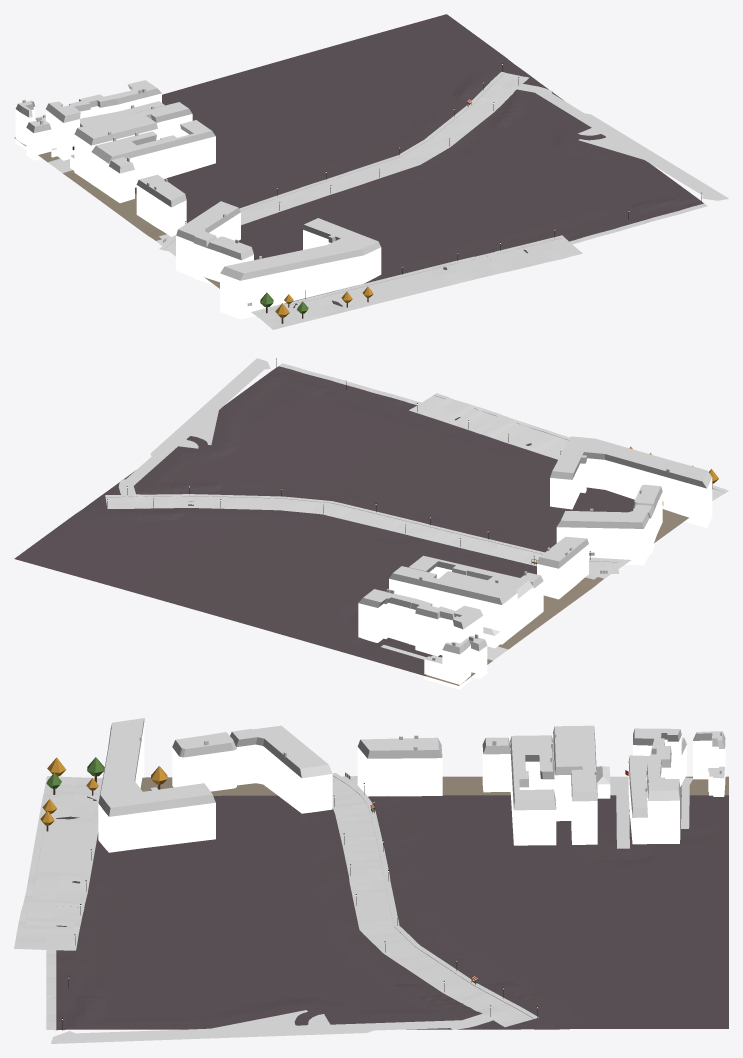
File: zone_J6.glb
3 renders of one model, top to bottom at view 1: azimuth 30°, elevation 25°; view 2: azimuth 150°, elevation 25°; view 3: azimuth 270°, elevation 25°, orthographic. The views are drawn at different scales.
Visible parts, largest first — view 1: zone_J6_terrain, zone_J6_batiments, zone_J6_sol_NOCOL, zone_J6_decor_NOCOL; view 2: zone_J6_terrain, zone_J6_batiments, zone_J6_sol_NOCOL; view 3: zone_J6_terrain, zone_J6_batiments, zone_J6_sol_NOCOL, zone_J6_decor_NOCOL.
Part boxes in pixels (x1=…): zone_J6_terrain: x1=14, y1=14, x2=707, y2=329; zone_J6_batiments: x1=15, y1=80, x2=381, y2=319; zone_J6_sol_NOCOL: x1=57, y1=71, x2=728, y2=329; zone_J6_decor_NOCOL: x1=185, y1=63, x2=702, y2=323; zone_J6_terrain: x1=14, y1=363, x2=688, y2=685; zone_J6_batiments: x1=358, y1=436, x2=712, y2=689; zone_J6_sol_NOCOL: x1=105, y1=358, x2=728, y2=673; zone_J6_terrain: x1=46, y1=776, x2=728, y2=1030; zone_J6_batiments: x1=98, y1=718, x2=725, y2=852; zone_J6_sol_NOCOL: x1=14, y1=773, x2=692, y2=1043; zone_J6_decor_NOCOL: x1=40, y1=757, x2=537, y2=1030.
Bounding box in the file's own units: 220 × 23.55 × 220.
